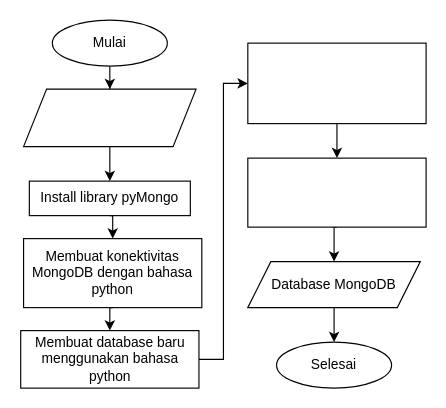
Some shapes in this 446 by 408 pixel diagram are drawn without their labels. The centre of each missing label's shape, as x and y in pixels:
"Google colab, library pyMongo, MongoDb" belongs at point 109,117.
"Melakukan operasi database dengan query python" belongs at point 336,192.
"Membuat collection menggunakan bahasa python" belongs at point 336,83.
